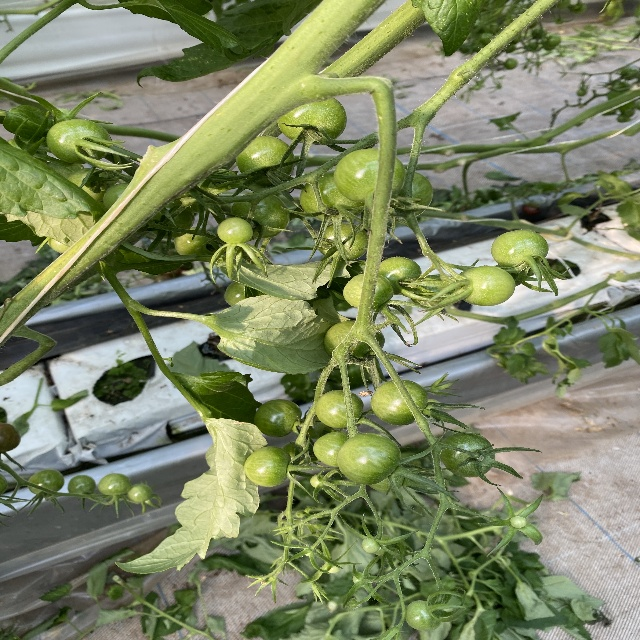l_green: (333, 149, 406, 205), (336, 433, 401, 486), (300, 170, 367, 221), (276, 97, 347, 145), (45, 119, 112, 165), (235, 135, 295, 186), (231, 191, 290, 240), (370, 380, 429, 425), (439, 432, 495, 477), (324, 319, 385, 360), (455, 265, 515, 306), (491, 230, 549, 270), (389, 168, 433, 220), (317, 221, 369, 262), (243, 446, 292, 487), (314, 389, 364, 428), (342, 272, 394, 308), (252, 399, 301, 437), (146, 200, 193, 239), (173, 227, 220, 262), (379, 257, 422, 294), (65, 169, 113, 202), (314, 432, 352, 467), (404, 600, 443, 631), (369, 464, 404, 493), (28, 469, 64, 497), (217, 217, 252, 243), (98, 473, 131, 496), (103, 183, 130, 210), (67, 475, 96, 497), (127, 483, 154, 503), (224, 281, 245, 306), (362, 537, 380, 553), (509, 515, 527, 529), (312, 475, 328, 488), (322, 562, 339, 574)
l_half_ripened: (0, 422, 22, 453)
